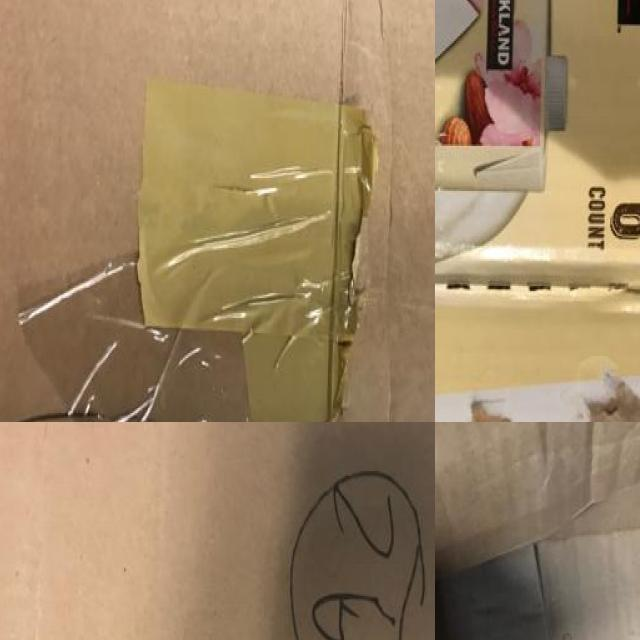class_name: (0, 0, 435, 422), (0, 422, 435, 640), (435, 0, 640, 422), (435, 422, 640, 640)
